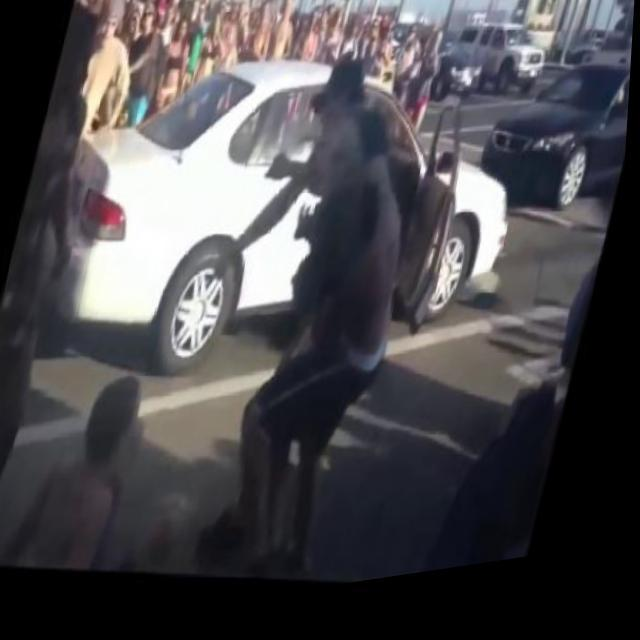fight: (159, 34, 462, 568)
